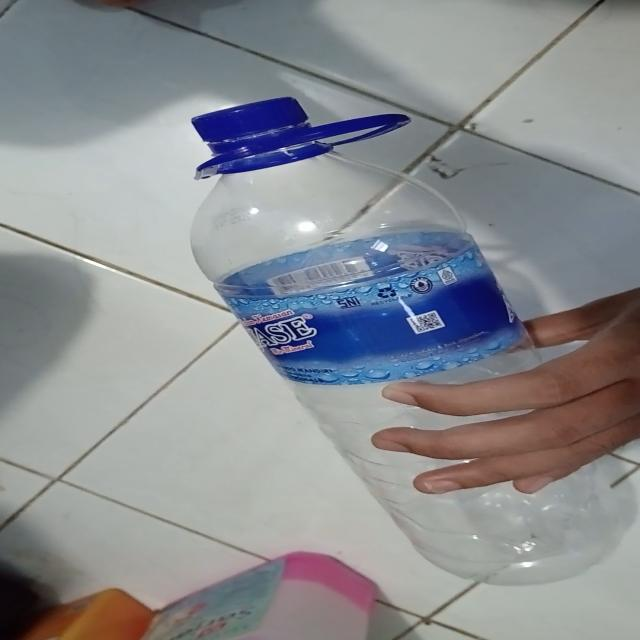Botol bekas: (185, 97, 636, 588)
